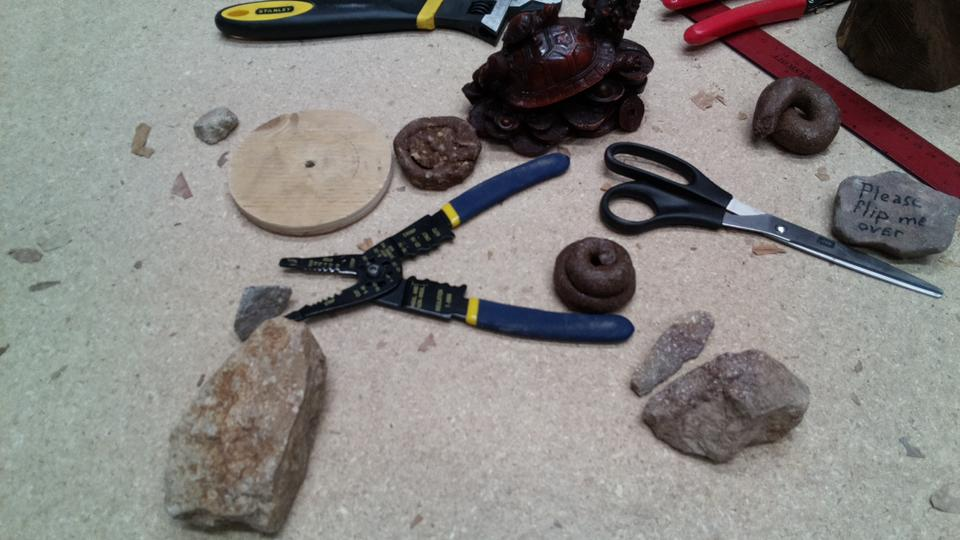poop: (748, 75, 843, 159), (389, 110, 482, 193), (549, 234, 638, 316)
